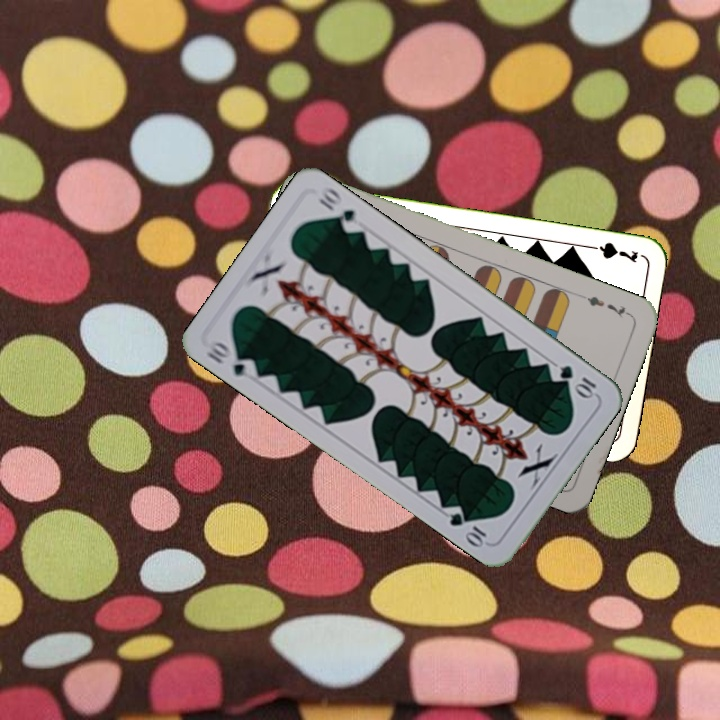E7: (577, 290, 634, 321)
G10: (202, 337, 260, 383), (555, 361, 599, 401)
G7: (582, 238, 640, 266)
